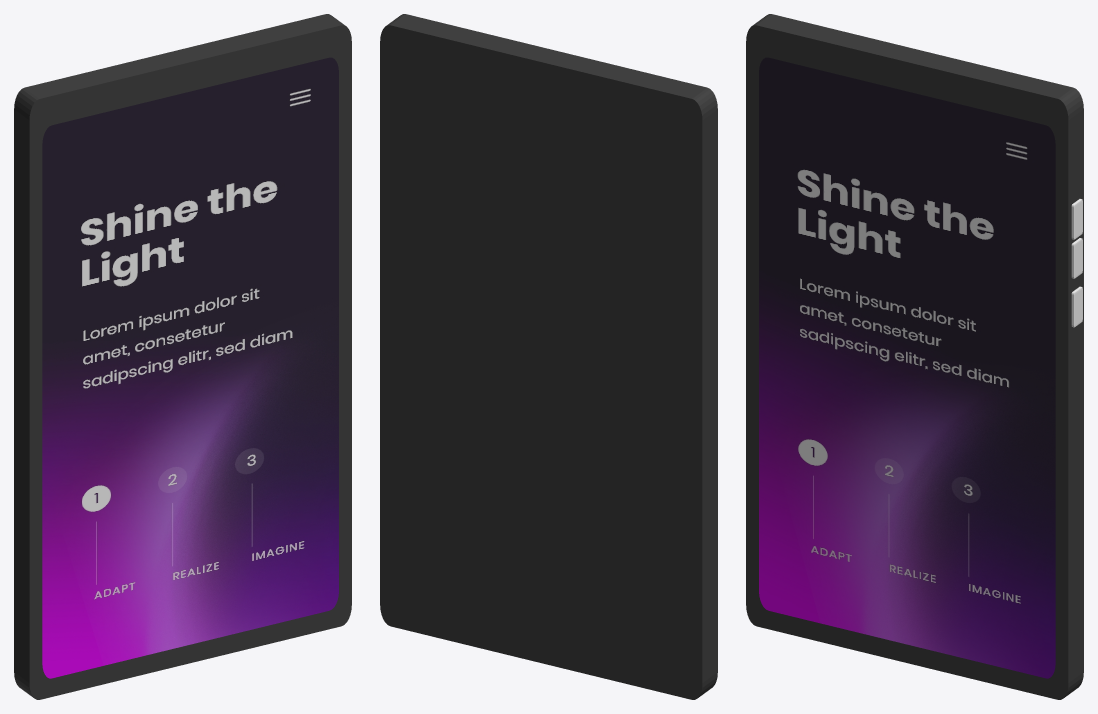
Rendered from MyFirstProject-phone.gltf.
3 renders of one model, left to right at view 1: azimuth 30°, elevation 25°; view 2: azimuth 150°, elevation 25°; view 3: azimuth 330°, elevation 25°, orthographic.
Visible parts, largest first — view 1: Buttons; view 2: Buttons; view 3: Buttons.
Boxes of the visible parts, x1,y1,x2,y2 form: Buttons: (14,14,351,699); Buttons: (380,14,717,699); Buttons: (746,14,1083,699).
Size of the model in its own units: 2.02 by 3.56 by 0.1656.
Materials: 3 (1 with a texture image).
